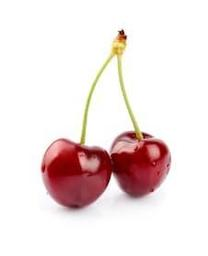cherry: (40, 138, 113, 210), (110, 130, 171, 198)
